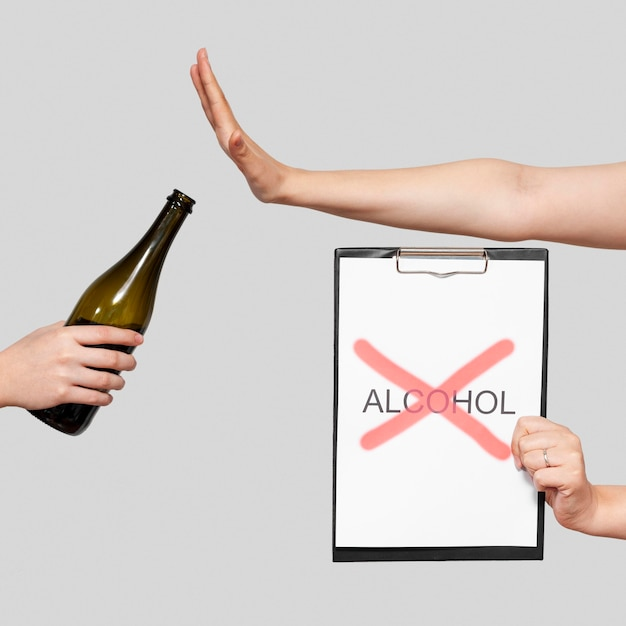alcohol: (23, 186, 199, 437)
